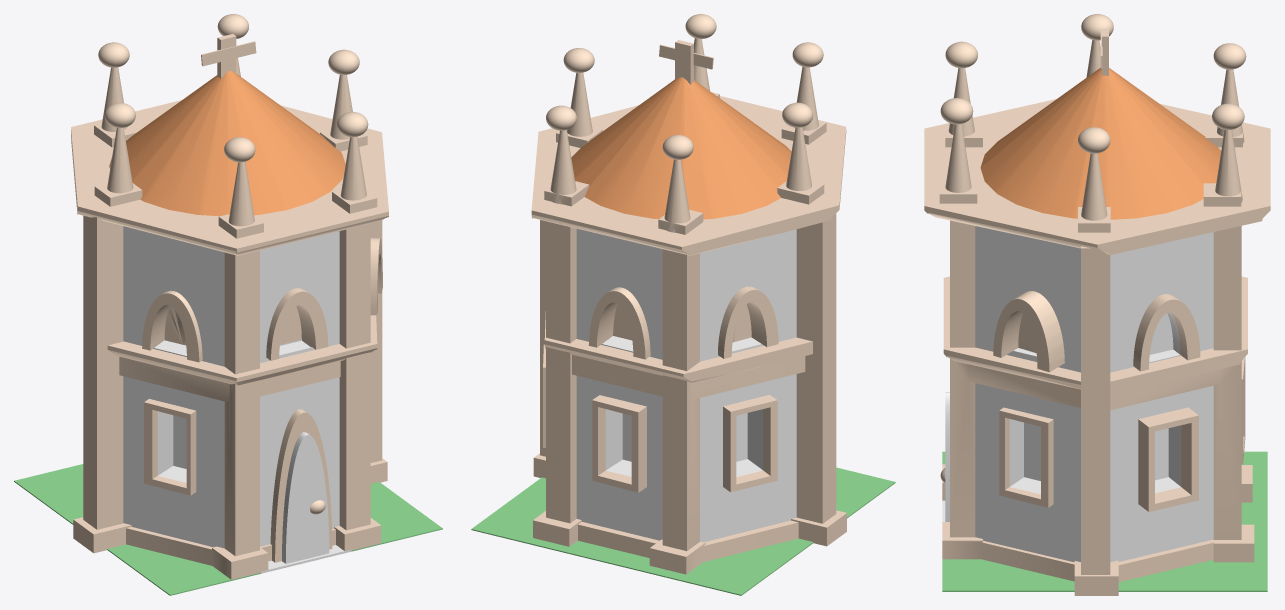
Rendered from igreja-barrocas.glb.
3 views of the same model, side by side, from view 1: azimuth 30°, elevation 25°; view 2: azimuth 150°, elevation 25°; view 3: azimuth 270°, elevation 25° (orthographic). The views are drawn at different scales.
Visible parts, largest first — view 1: offset; view 2: offset; view 3: offset.
Part boxes in pixels (box(x1,y1,x2,y2)): offset: box(14, 14, 442, 595); offset: box(471, 14, 895, 595); offset: box(924, 14, 1270, 595).
Size of the model in its own units: 222 by 327 by 210.
